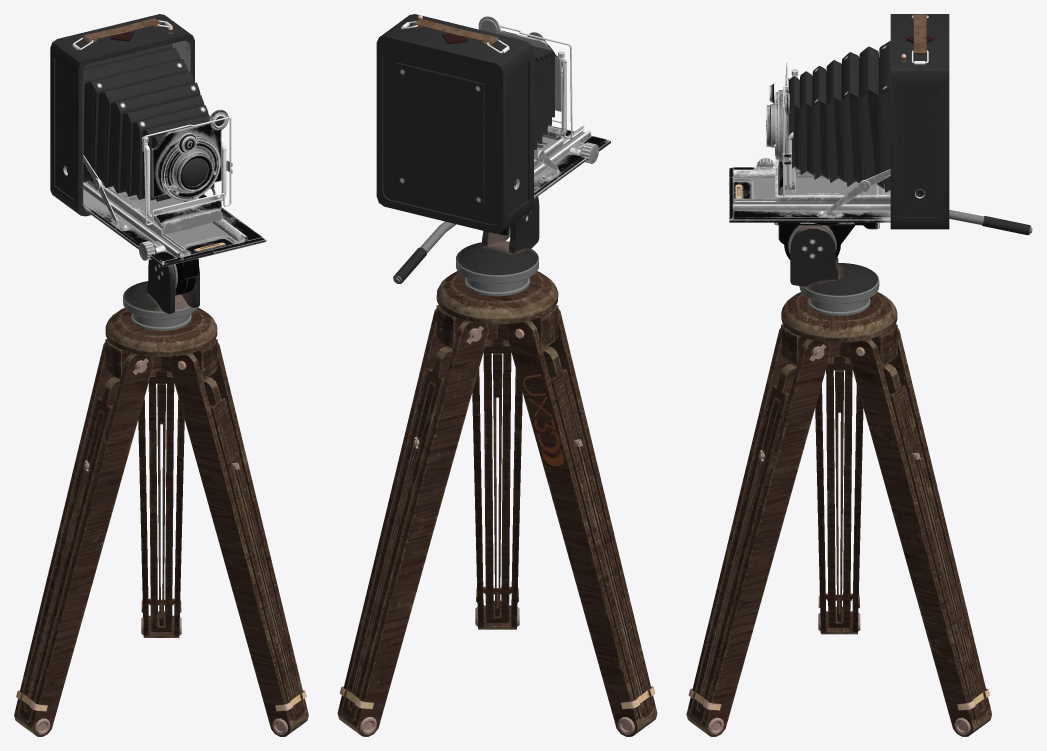
File: antique-camera.glb
3 views of the same model, side by side, from view 1: azimuth 30°, elevation 25°; view 2: azimuth 150°, elevation 25°; view 3: azimuth 270°, elevation 25° (orthographic). The views are drawn at different scales.
Visible parts, largest first — view 1: tripod, camera; view 2: tripod, camera; view 3: tripod, camera.
Boxes of the visible parts, box(x1,y1,x2,y2) form: tripod: box(14, 258, 308, 736); camera: box(50, 14, 266, 266); tripod: box(337, 196, 657, 736); camera: box(376, 14, 610, 233); tripod: box(686, 210, 1032, 736); camera: box(729, 14, 949, 229).
Size of the model in its own units: 2.6 by 7.21 by 3.39.
2 materials, 2 textured.
